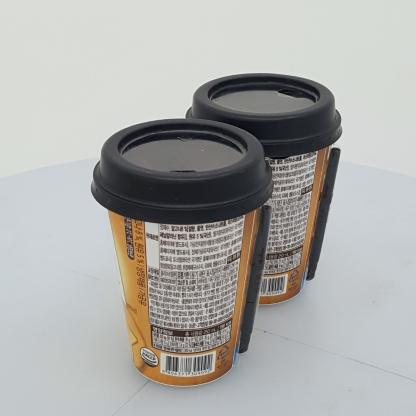---------250ML: (91, 118, 273, 387), (183, 73, 342, 305)
